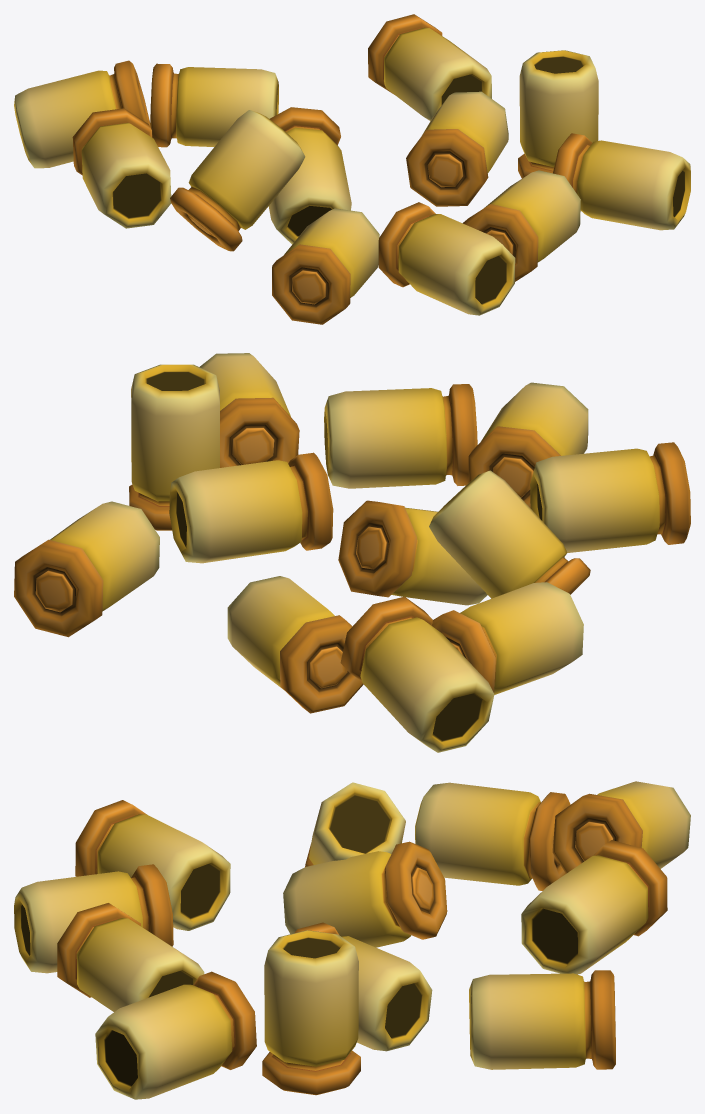
The model's file is BulletCasings_M.fbx.
3 views of the same model, one above another, from view 1: azimuth 30°, elevation 25°; view 2: azimuth 150°, elevation 25°; view 3: azimuth 270°, elevation 25° (orthographic). The views are drawn at different scales.
Visible parts, largest first — view 1: BulletCasings_M; view 2: BulletCasings_M; view 3: BulletCasings_M.
Boxes of the visible parts, x1,y1,x2,y2 form: BulletCasings_M: (14, 14, 690, 324); BulletCasings_M: (14, 353, 690, 752); BulletCasings_M: (14, 781, 690, 1099).
Bounding box in the file's own units: 96.36 × 25.99 × 106.
